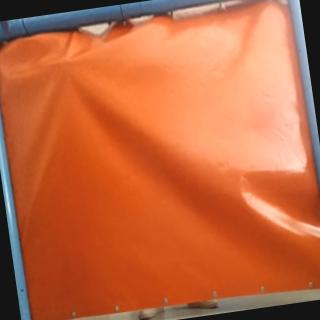Hit-hRxx: (54, 52, 78, 71)
